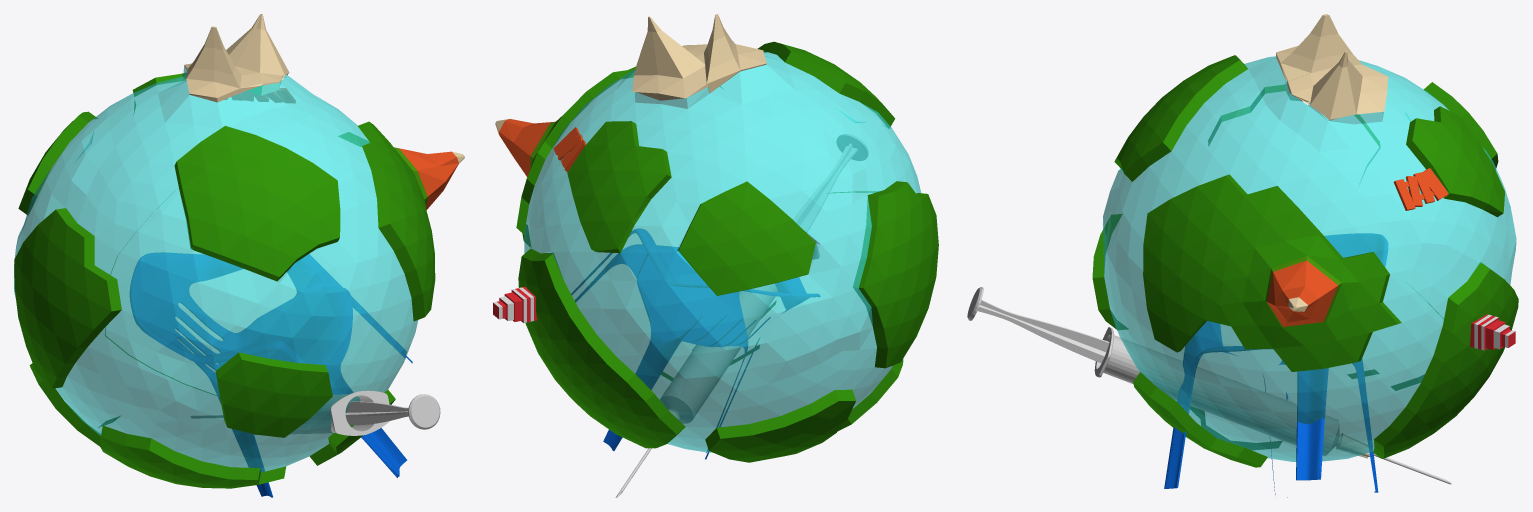
The model's file is world_03.glb.
3 views of the same model, side by side, from view 1: azimuth 30°, elevation 25°; view 2: azimuth 150°, elevation 25°; view 3: azimuth 270°, elevation 25° (orthographic).
Visible parts, largest first — view 1: World, 03_Chair, 01_Syringe; view 2: World, 03_Chair, 01_Syringe; view 3: World, 01_Syringe, 03_Chair.
Part boxes in pixels (x1,y1,x2,y2): World: [14, 14, 464, 488]; 03_Chair: [130, 252, 412, 497]; 01_Syringe: [191, 390, 440, 435]; World: [493, 14, 938, 462]; 03_Chair: [571, 228, 820, 459]; 01_Syringe: [615, 134, 868, 497]; World: [1092, 14, 1518, 467]; 01_Syringe: [967, 287, 1451, 484]; 03_Chair: [1164, 233, 1387, 497].
Size of what is drawn, in the model's own units: 2.41 by 2.53 by 2.69.
